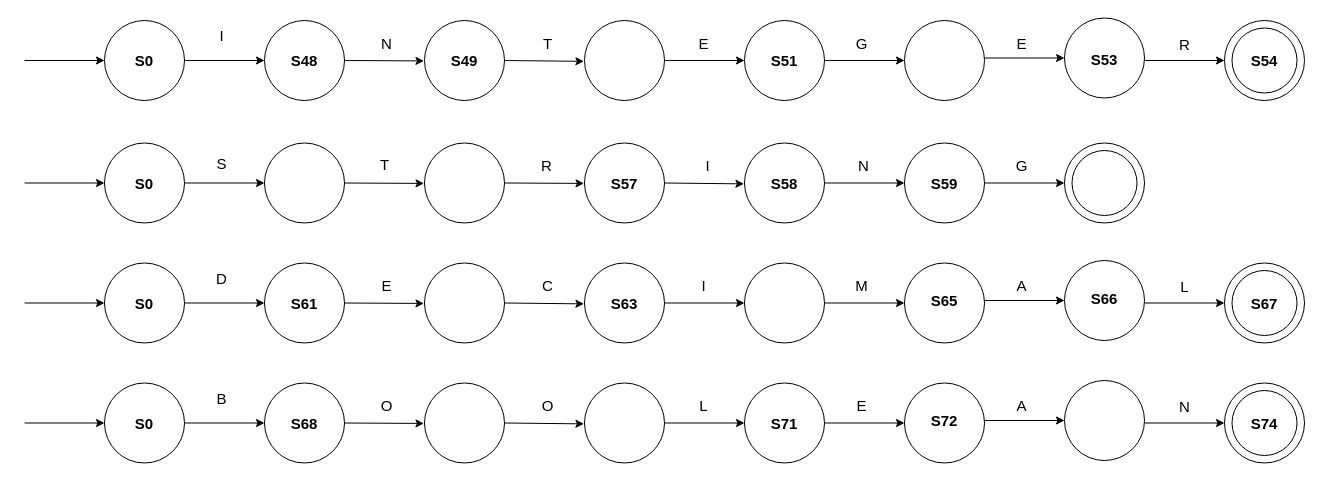
Some shapes in this 1322 by 480 pixel diagram are drawn without their labels. Here are the shapes that lost their labels. From the top down, the box of each, then its label:
(584, 20, 664, 100): S50
(904, 20, 984, 100): S52
(264, 142, 344, 223): S55
(424, 142, 504, 223): S56
(1071, 150, 1137, 216): S60
(424, 262, 504, 343): S62
(744, 262, 824, 343): S64
(424, 382, 504, 463): S69
(584, 382, 664, 463): S70
(1064, 380, 1144, 460): S73
